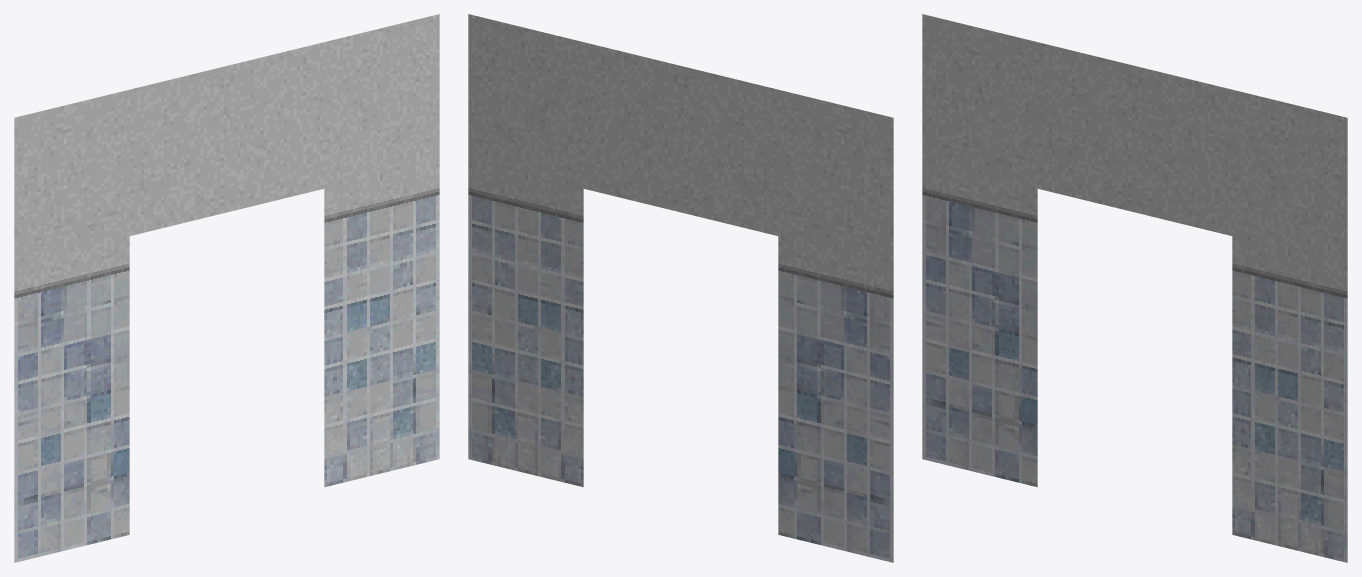
Rendered from wallDoorTiles.glb.
The picture shows the model from 3 angles, left to right: view 1: azimuth 30°, elevation 25°; view 2: azimuth 150°, elevation 25°; view 3: azimuth 330°, elevation 25°; orthographic projection.
Parts seen in each view (by area): view 1: wallDoorTiles; view 2: wallDoorTiles; view 3: wallDoorTiles.
Part boxes in pixels (left/top/right/bottom): wallDoorTiles: left=14, top=14, right=439, bottom=562; wallDoorTiles: left=468, top=14, right=893, bottom=562; wallDoorTiles: left=922, top=14, right=1347, bottom=562.
Bounding box in the file's own units: 4 × 4 × 1.19e-07.
Materials: 1 (1 with a texture image).
